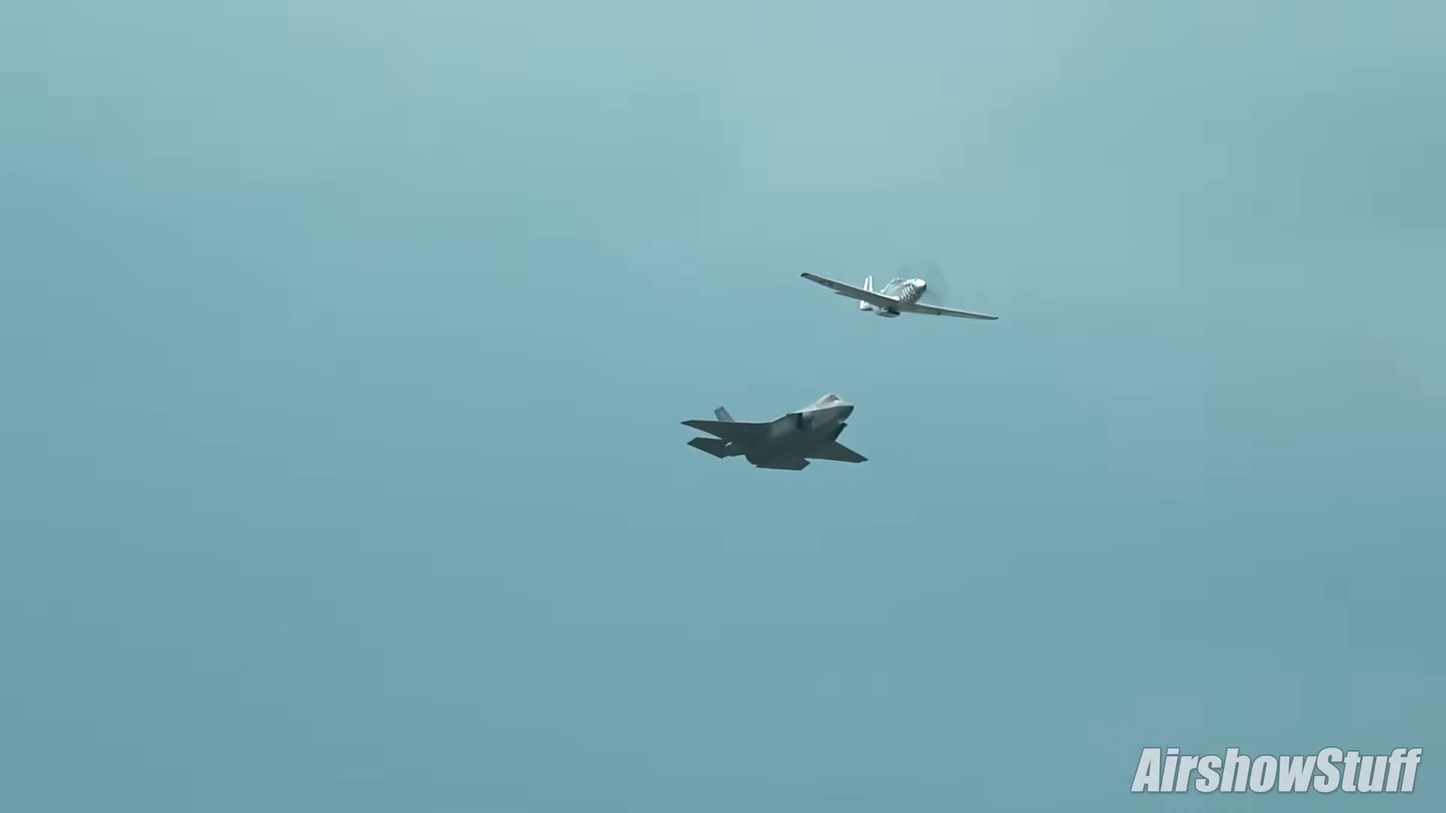F35: (676, 386, 874, 475)
